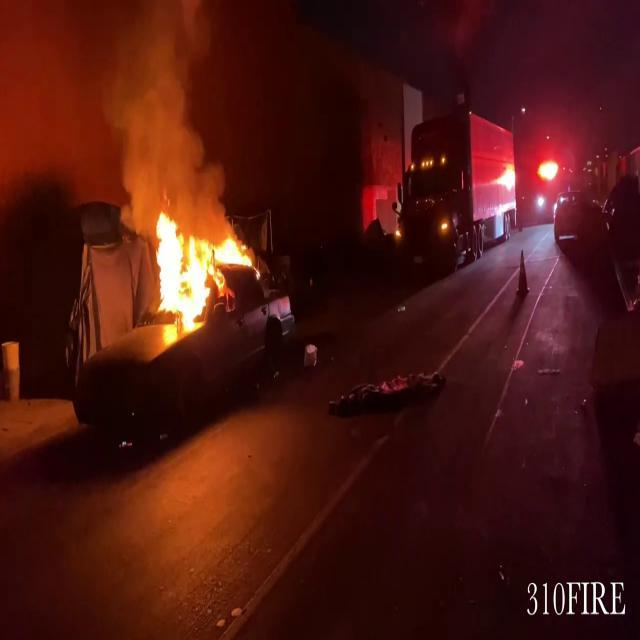Fire: (148, 204, 251, 336)
Smoke: (0, 0, 232, 210)
